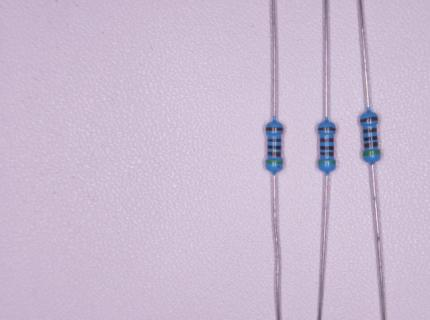Black band: (363, 136, 377, 141), (320, 146, 334, 150), (268, 146, 282, 150)
Brown band: (360, 117, 378, 122), (266, 127, 283, 132), (364, 142, 378, 147), (363, 128, 377, 133), (318, 127, 335, 131), (268, 152, 281, 157), (320, 139, 334, 143), (320, 152, 333, 156), (267, 139, 281, 142)
Green band: (364, 150, 380, 156), (266, 160, 283, 164), (318, 161, 335, 164)
